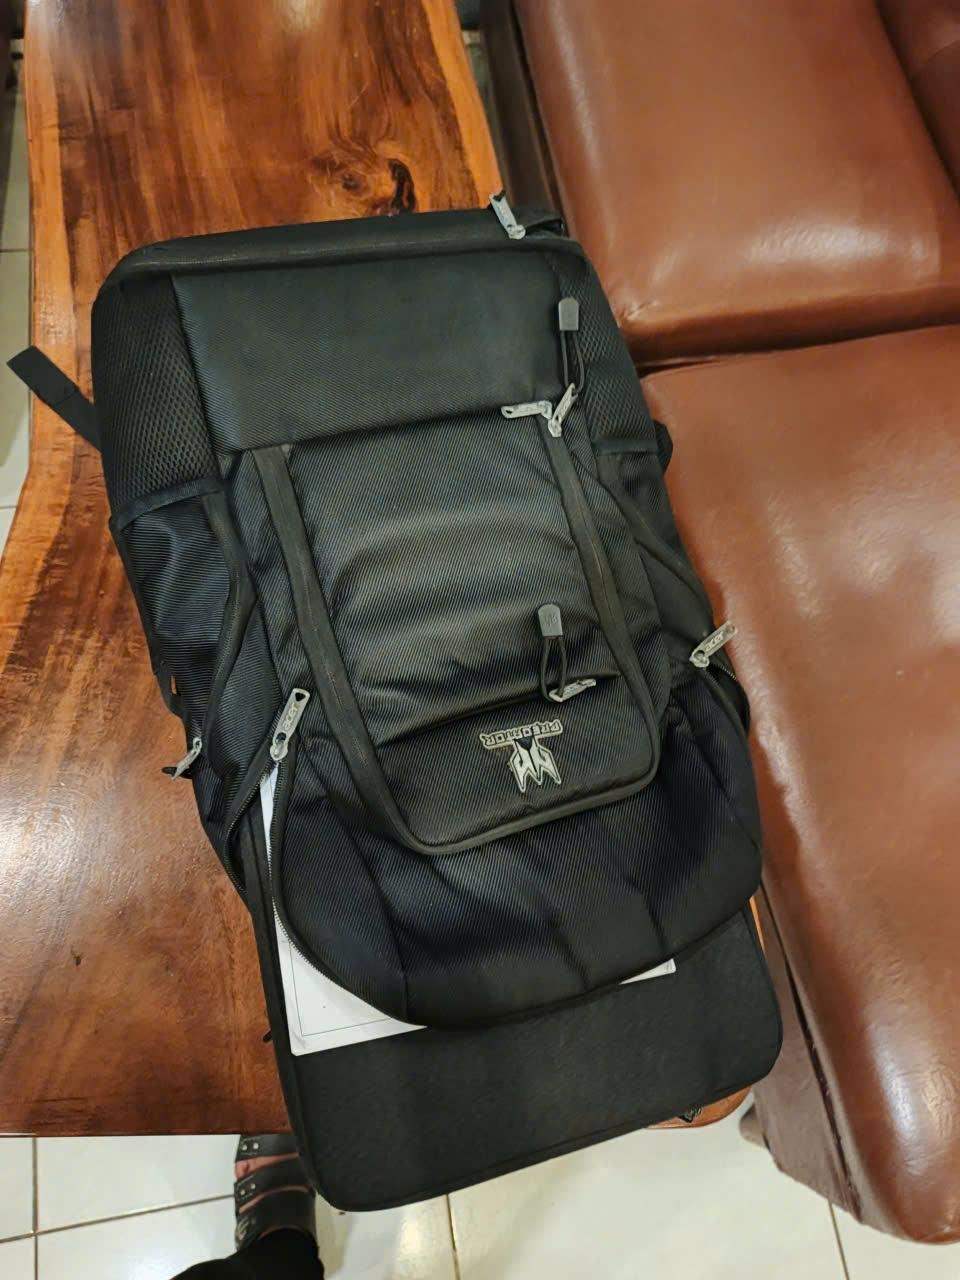Con lai: (90, 208, 788, 1214)
